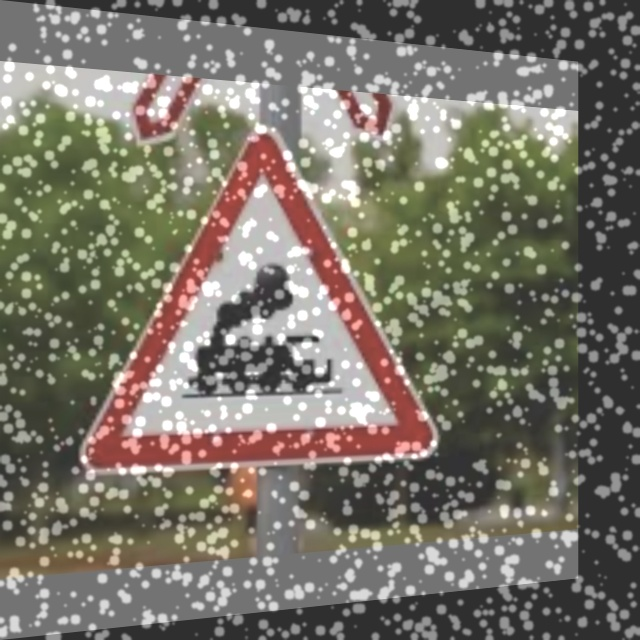Unguarded_Level_Crossing: (64, 128, 456, 484)
